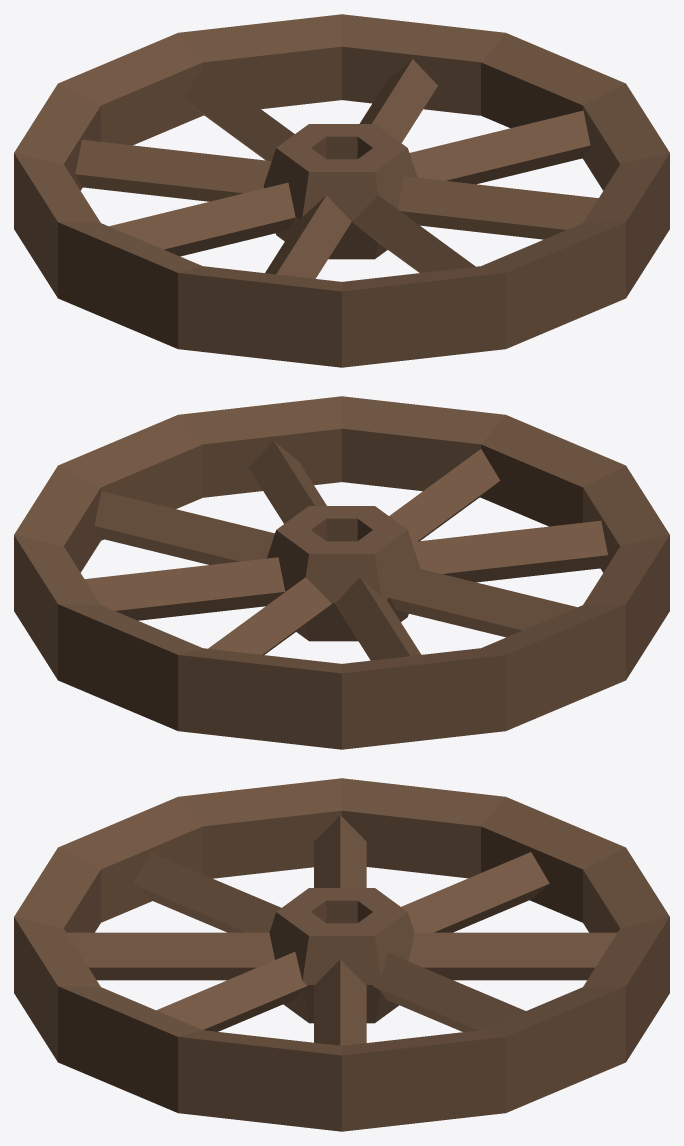
The model's file is wooden-wheel.fbx.
3 views of the same model, one above another, from view 1: azimuth 30°, elevation 25°; view 2: azimuth 150°, elevation 25°; view 3: azimuth 270°, elevation 25° (orthographic).
Visible parts, largest first — view 1: wooden-wheel; view 2: wooden-wheel; view 3: wooden-wheel.
Boxes of the visible parts, <box> form: wooden-wheel: <box>14,14,669,367</box>; wooden-wheel: <box>14,396,669,749</box>; wooden-wheel: <box>14,778,669,1131</box>.
Size of the model in its own units: 1.18 by 0.1729 by 1.18.
